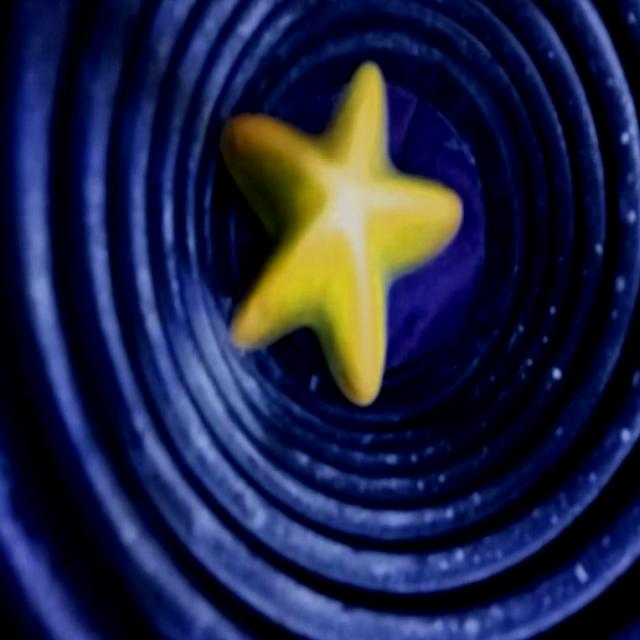block: (392, 280, 483, 370), (394, 77, 468, 180)
obstacles: (218, 65, 463, 406)
